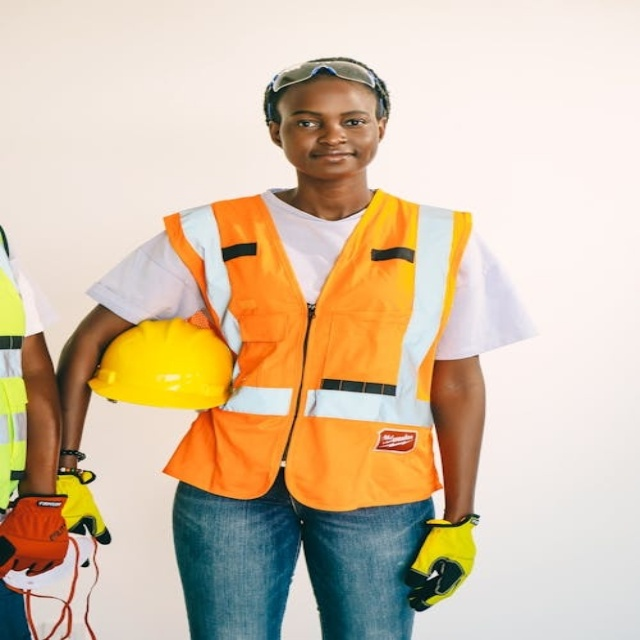Guantes: (404, 515, 479, 612), (1, 493, 71, 579), (56, 469, 111, 544)
Sin_gafas: (282, 106, 376, 131)
Sin_mascara: (300, 148, 366, 168)
